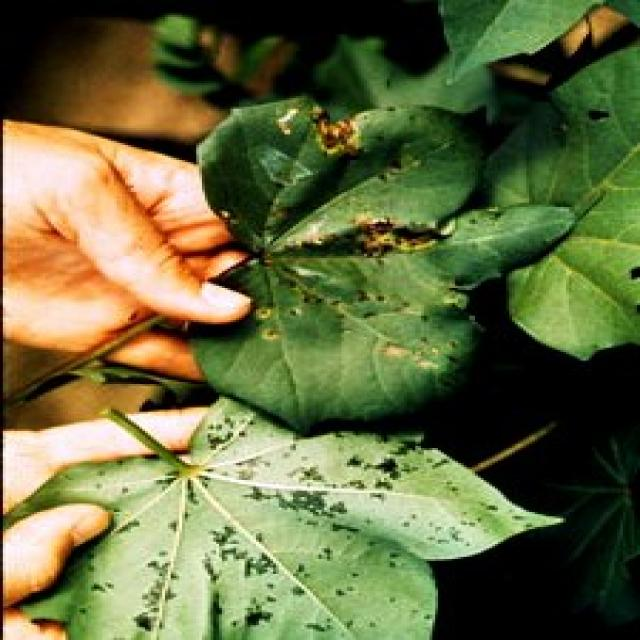Bacterial Blight: (215, 115, 485, 352)
